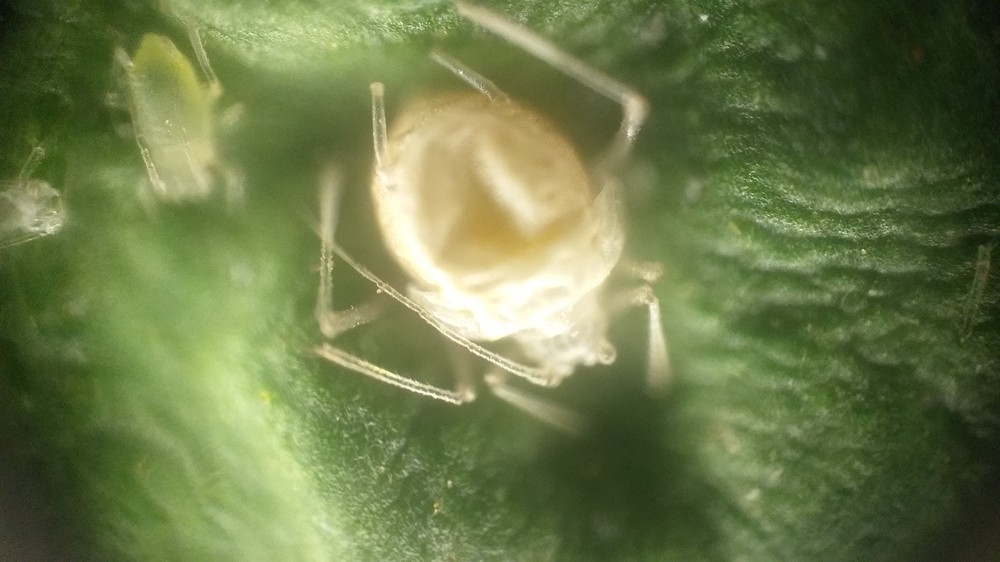Pulgon: (308, 25, 699, 433), (81, 27, 283, 246)
